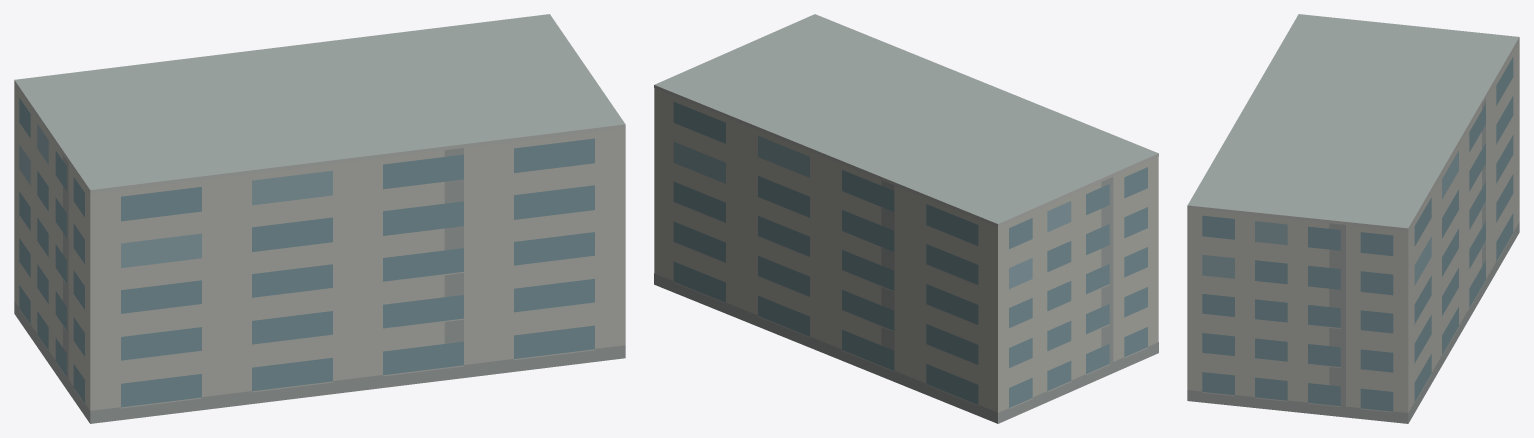
File: residential-177fc9d3-fbd4-42be-a553-1b81db0f874b.glb
3 views of the same model, side by side, from view 1: azimuth 30°, elevation 25°; view 2: azimuth 150°, elevation 25°; view 3: azimuth 270°, elevation 25° (orthographic). The views are drawn at different scales.
Parts seen in each view (by area): view 1: residential-177fc9d3-fbd4-42be-a553-1b81db0f874b.tmp; view 2: residential-177fc9d3-fbd4-42be-a553-1b81db0f874b.tmp; view 3: residential-177fc9d3-fbd4-42be-a553-1b81db0f874b.tmp.
Part boxes in pixels (box(x1,y1,x2,y2)): residential-177fc9d3-fbd4-42be-a553-1b81db0f874b.tmp: box(14, 14, 625, 423); residential-177fc9d3-fbd4-42be-a553-1b81db0f874b.tmp: box(654, 14, 1158, 423); residential-177fc9d3-fbd4-42be-a553-1b81db0f874b.tmp: box(1187, 14, 1519, 423).
Bounding box in the file's own units: 35.85 × 15.25 × 23.48.
